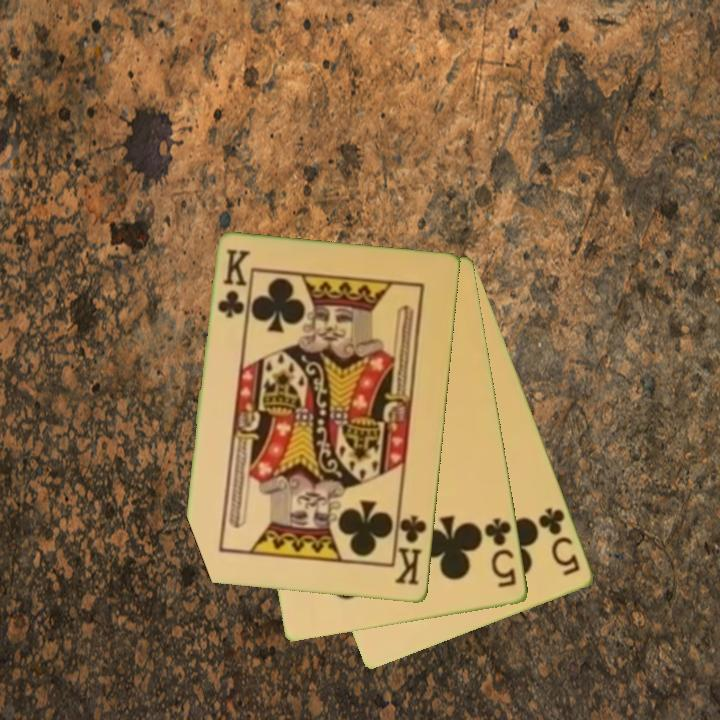5c: (535, 504, 583, 579), (481, 515, 520, 591)
Kc: (391, 507, 430, 589), (214, 246, 251, 322)
